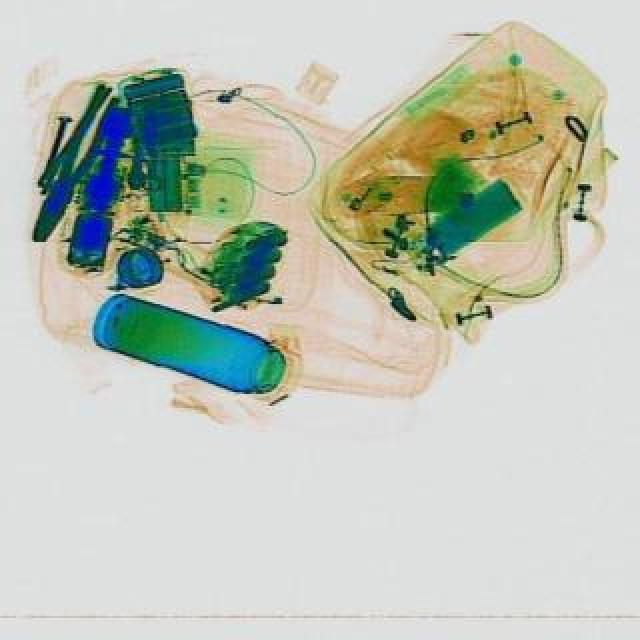wrench: (28, 84, 132, 250)
